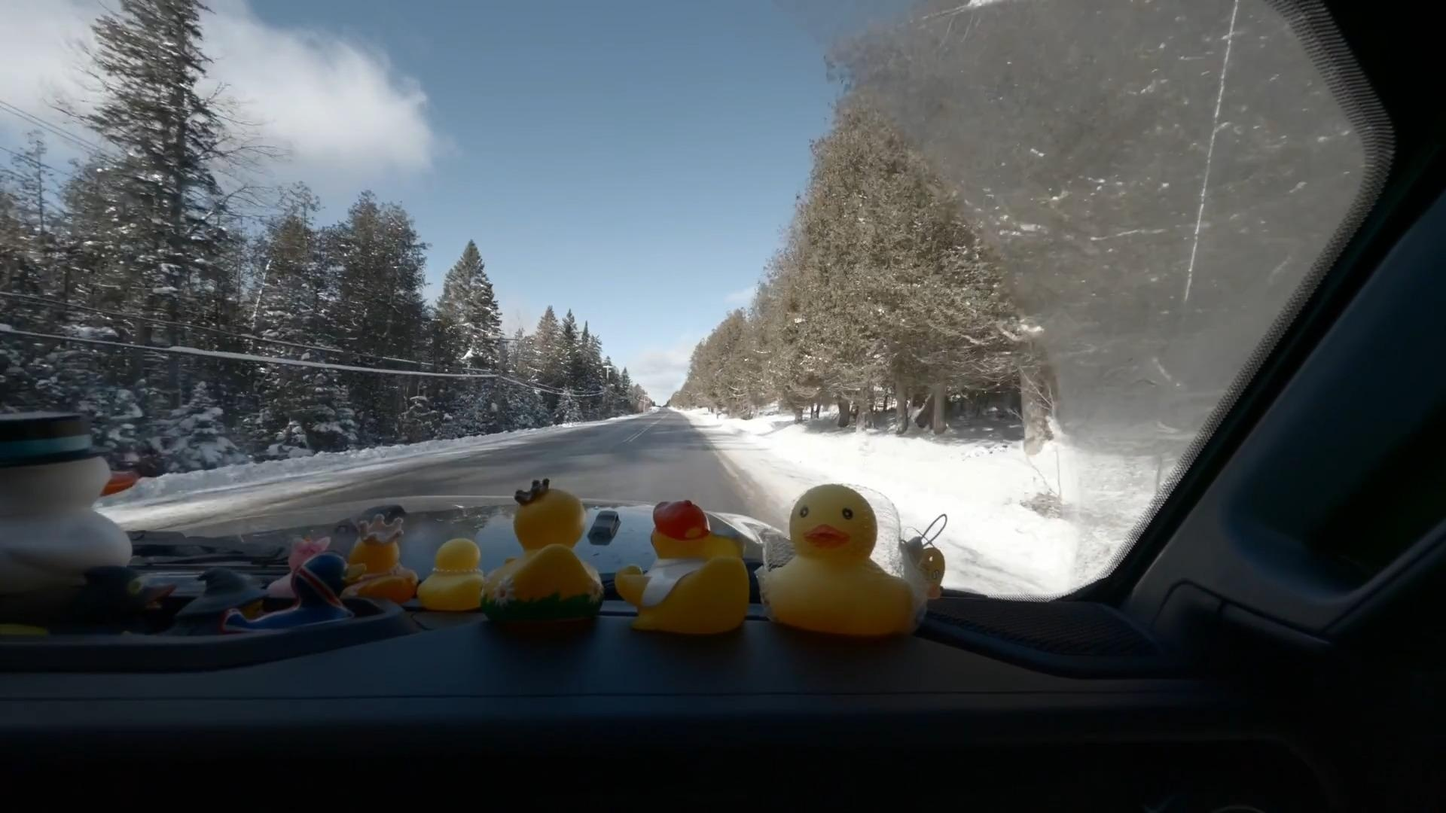Snow: (680, 406, 1138, 598), (96, 413, 642, 524)
dry: (154, 406, 771, 534)
